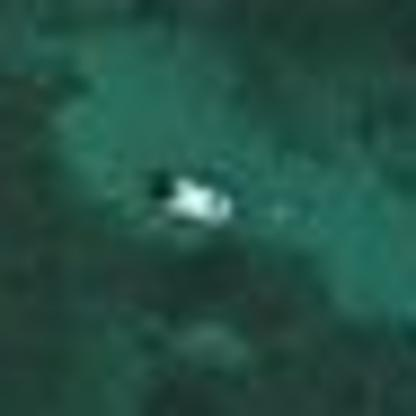ship: (142, 158, 242, 238)
